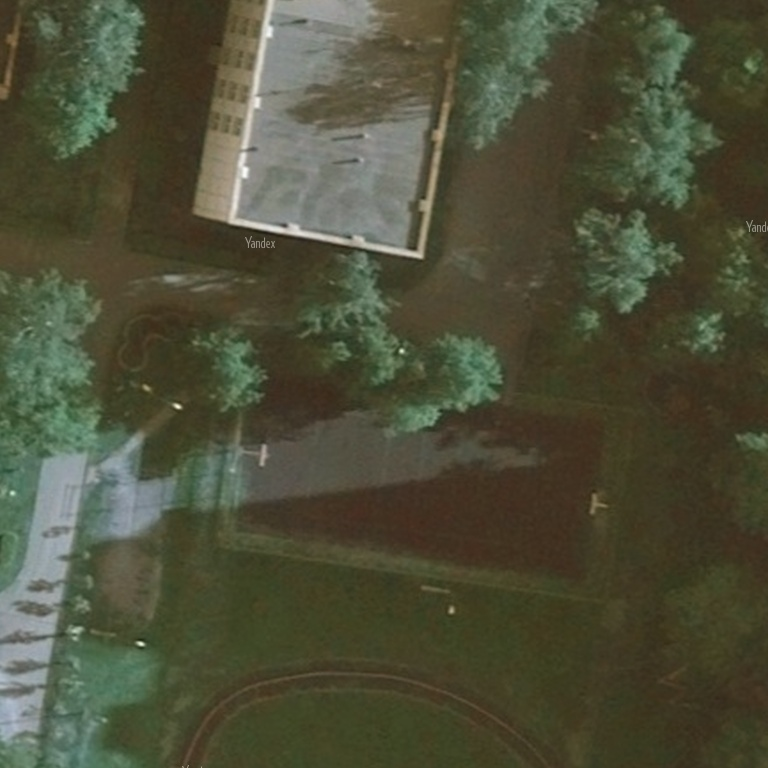basket_court: (223, 368, 628, 583)
